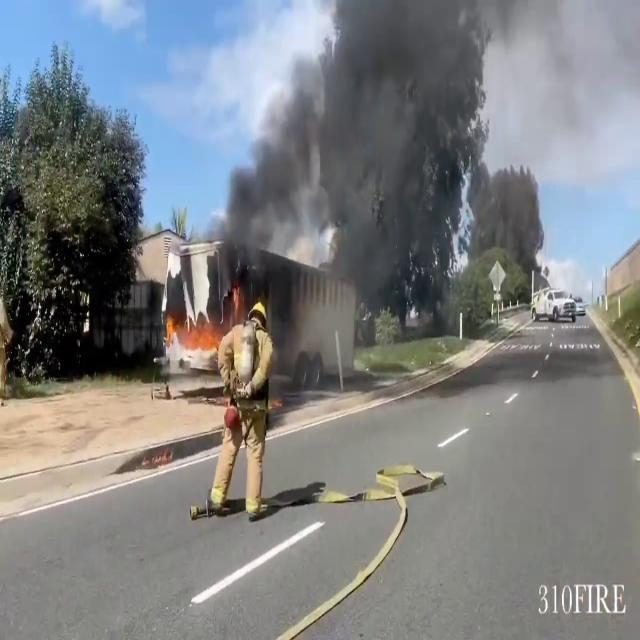Smoke: (214, 0, 547, 308)
